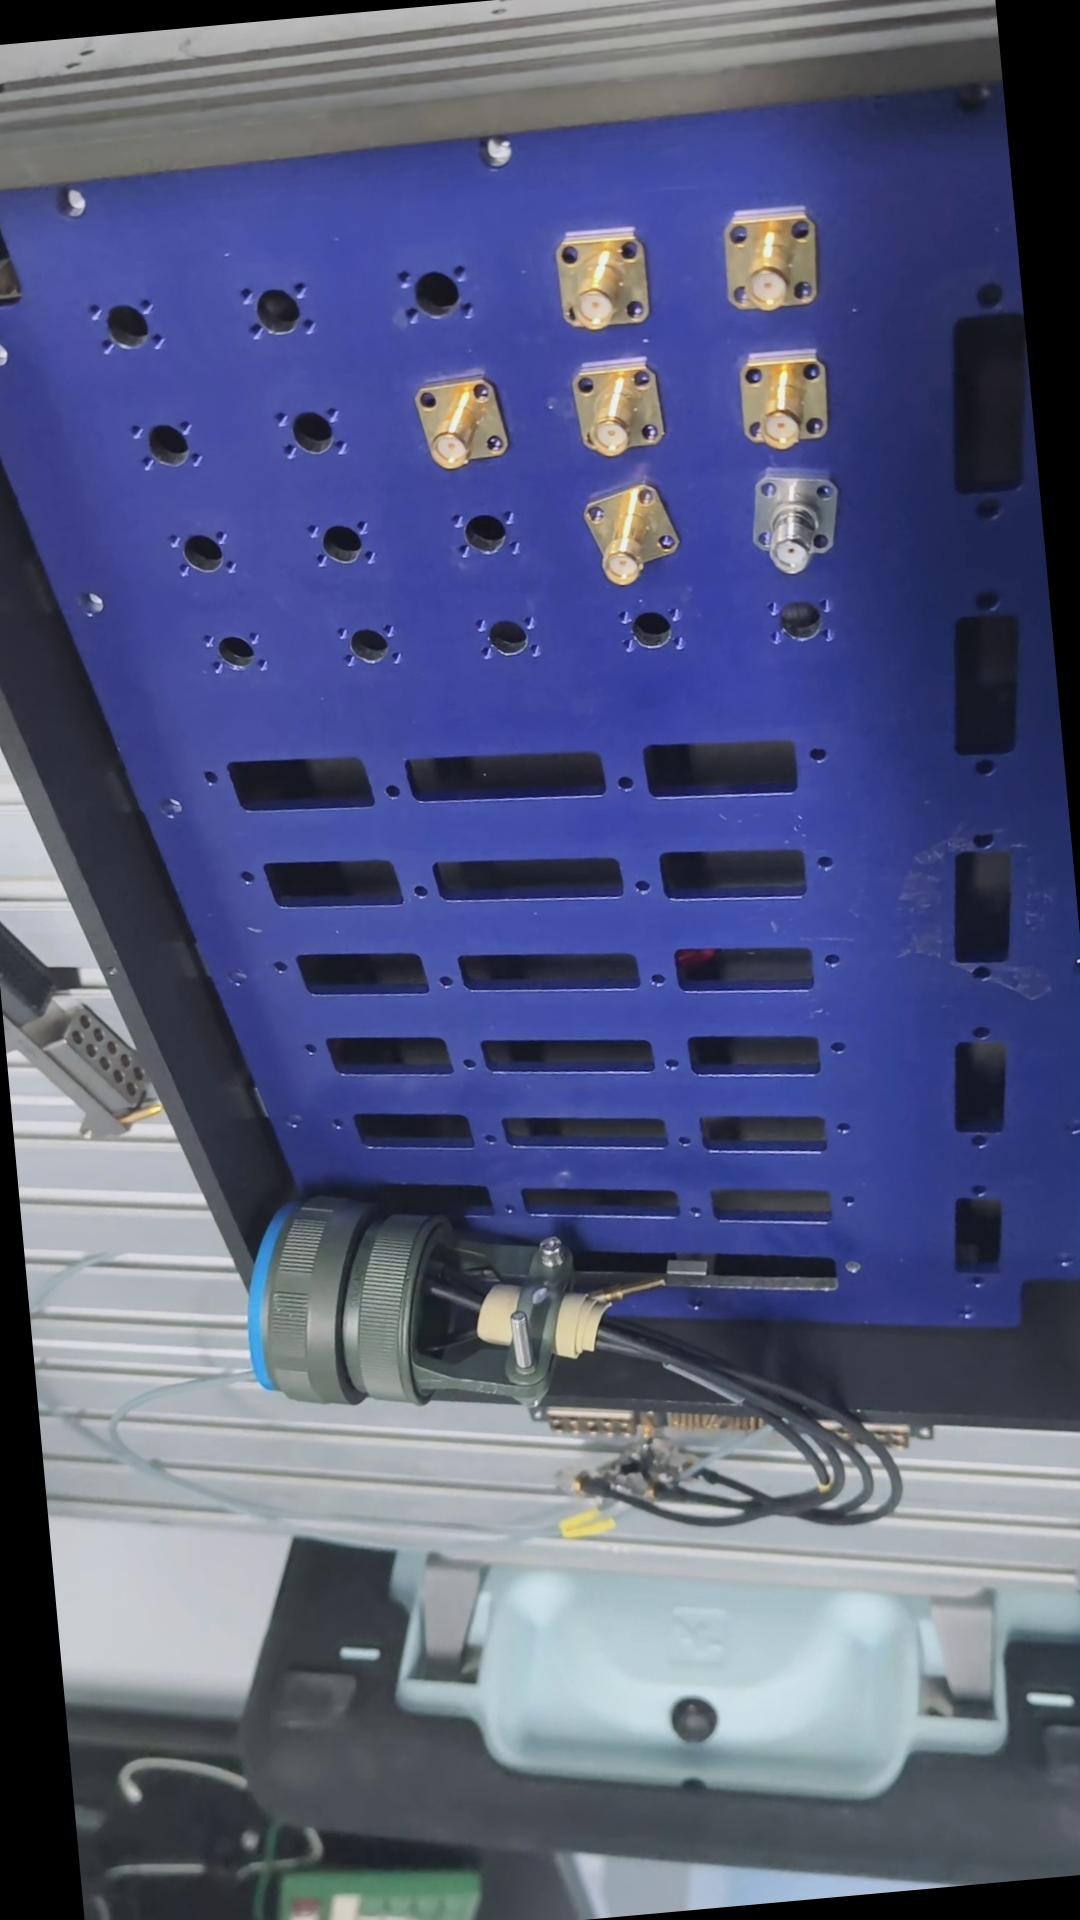SMA: (709, 200, 819, 323), (742, 464, 848, 575), (547, 223, 651, 335), (574, 476, 673, 588), (733, 348, 829, 447), (413, 369, 504, 472), (568, 359, 655, 460)
